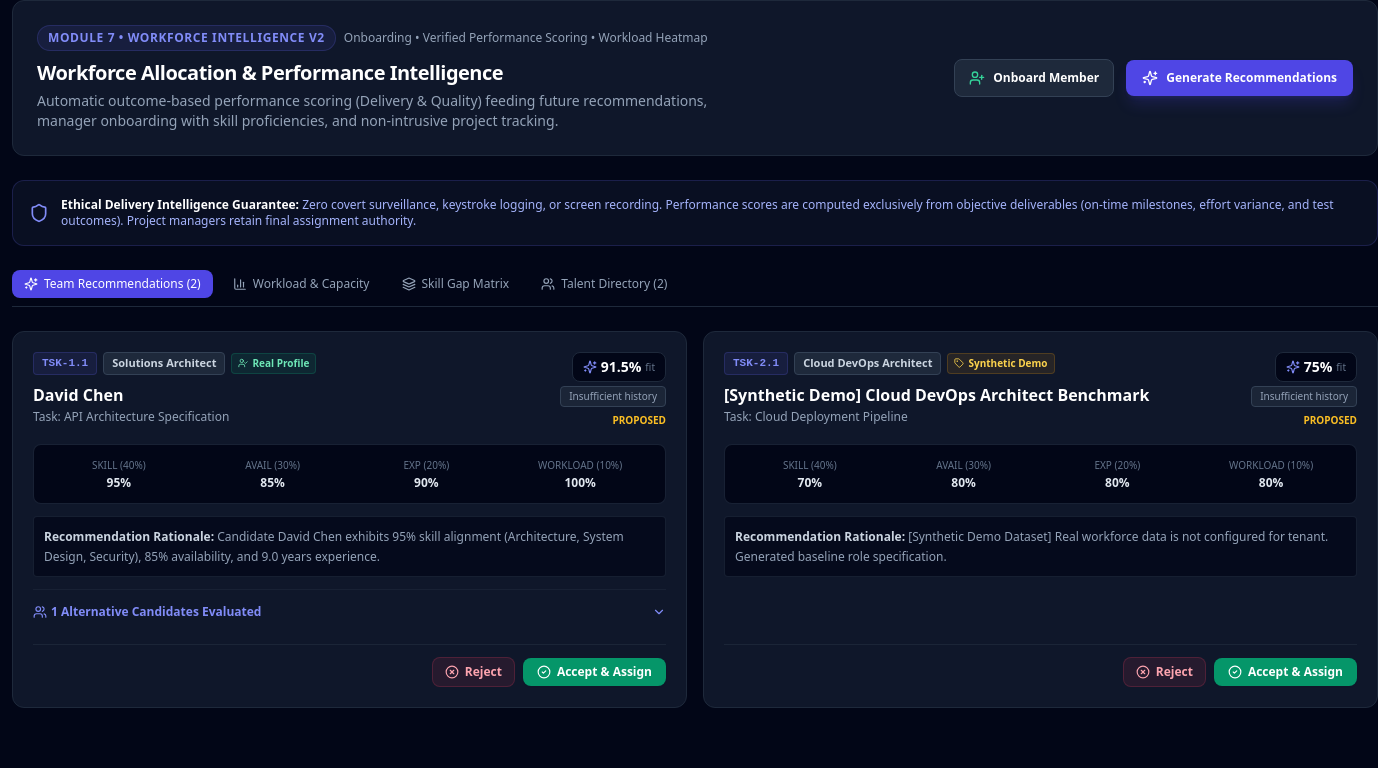
Test: WorkforceView Component › toggles to Talent Directory subtab and lists verified contributors
Click the button "Talent Directory (2)" at (604, 284), box 529,270 -> 679,298
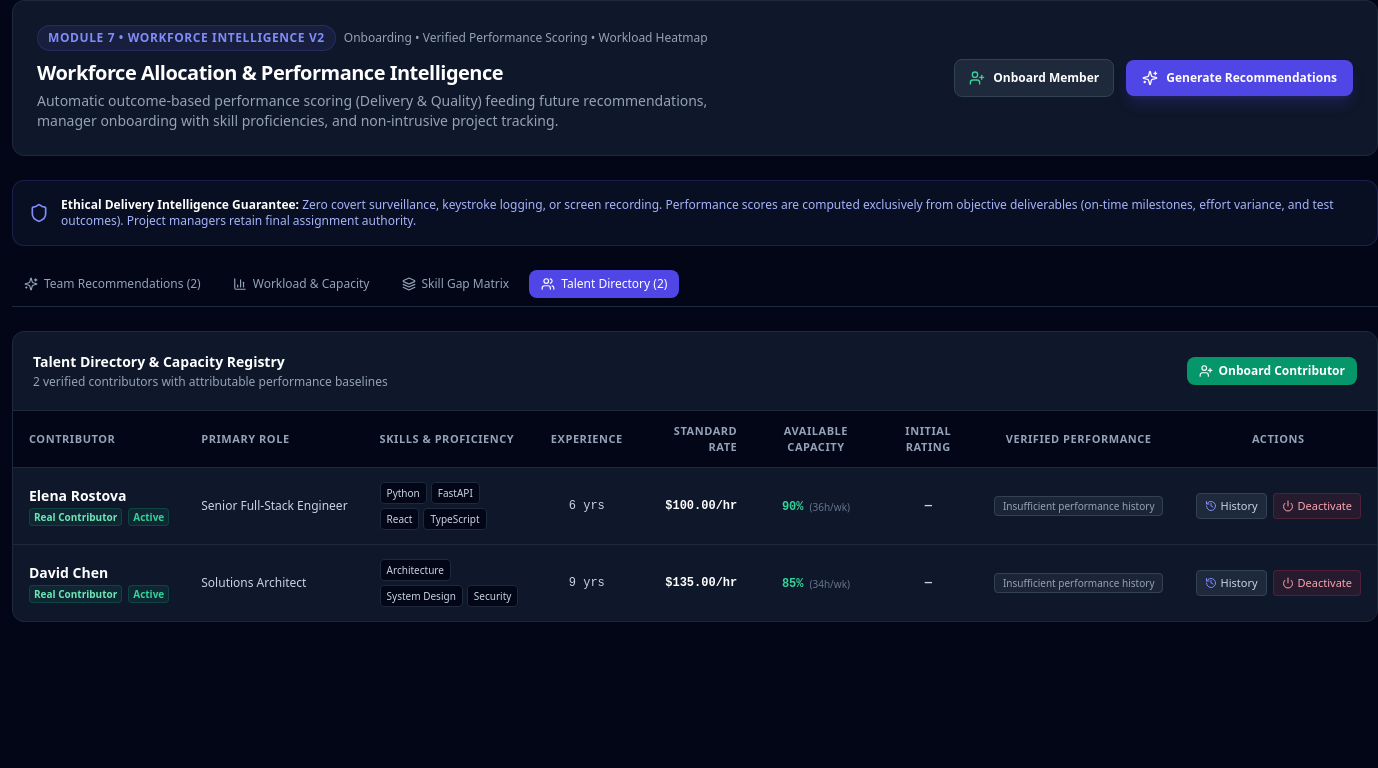
Check: the heading "Talent Directory & Capacity Registry" is shown, box 33,352 -> 285,371
Check: the text "Elena Rostova" is shown, box 29,486 -> 126,505
Check: the text "Senior Full-Stack Engineer" is shown, box 185,468 -> 364,544
